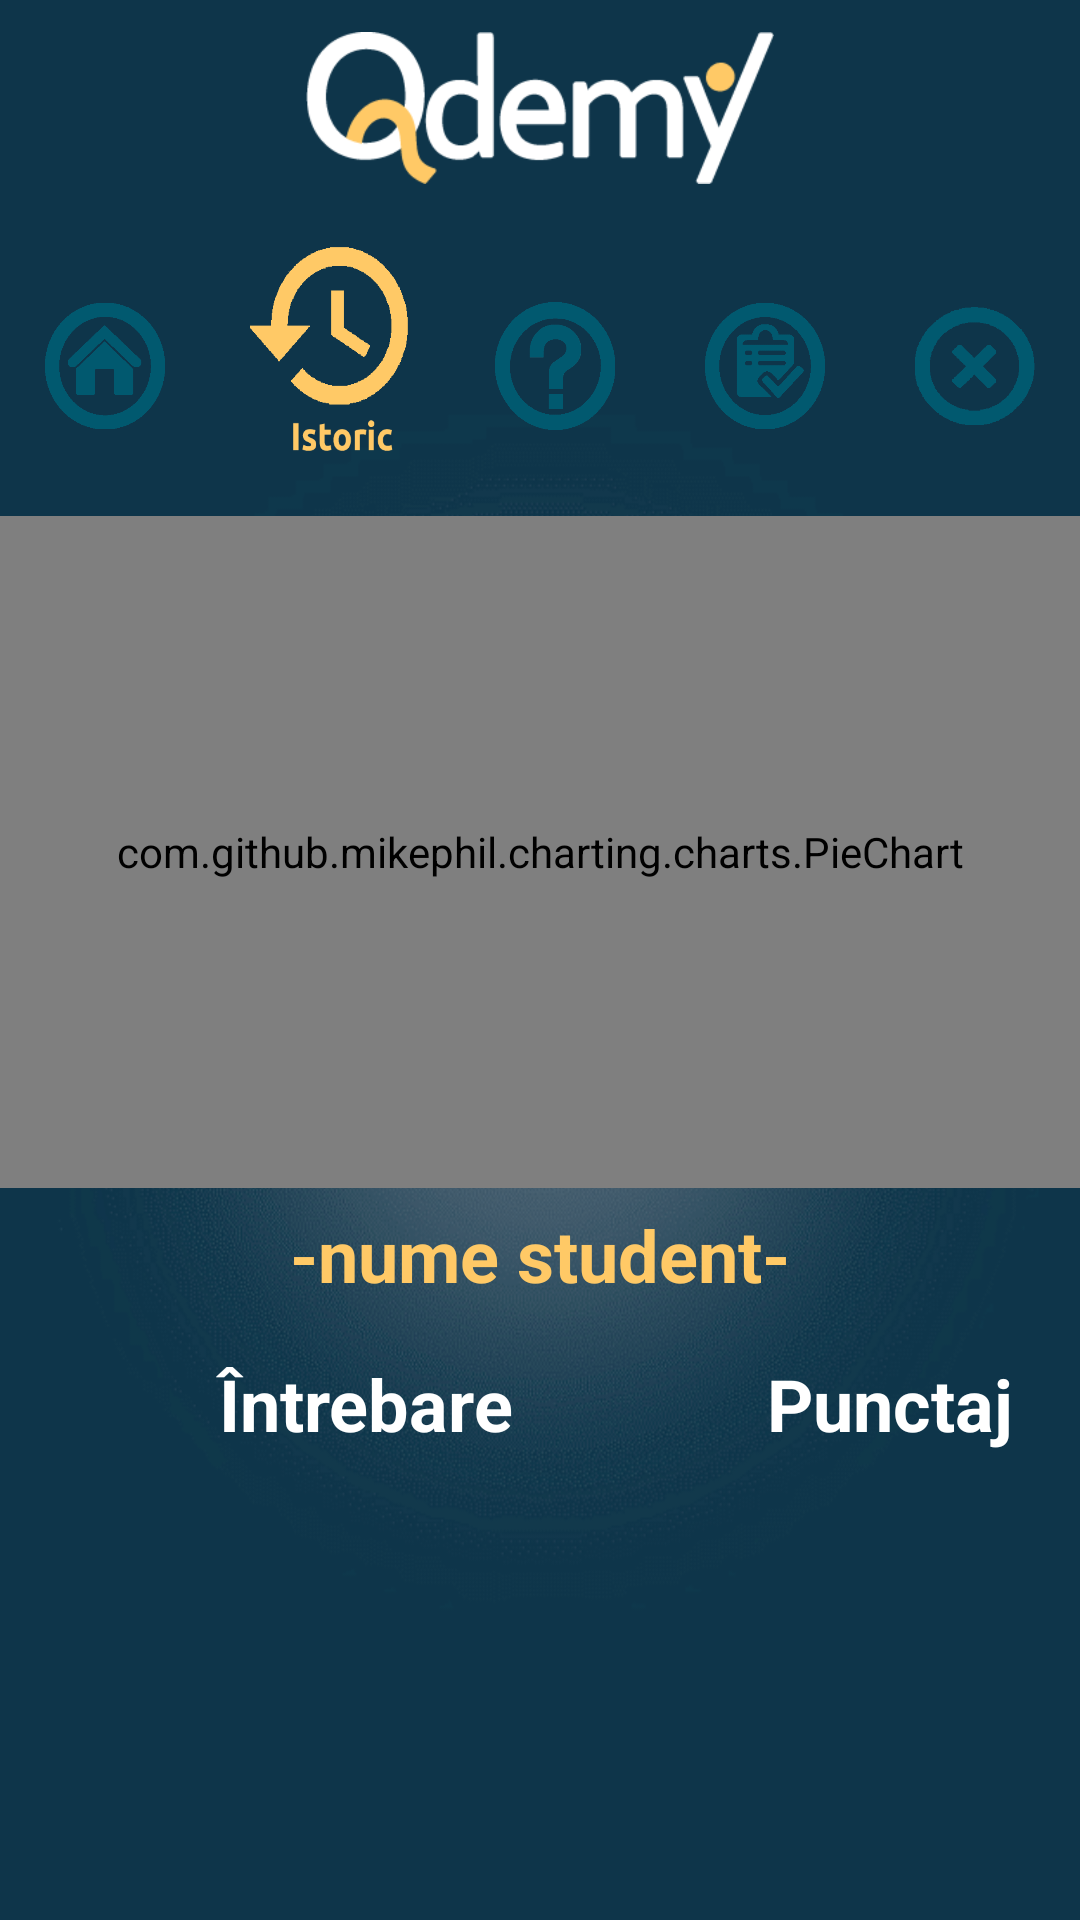

Icon click points for this 1080px x 1920px phone screenshot, format (x,y):
acasax: (105,366)
deconectare: (974,366)
intrebarix: (555,366)
testex: (765,366)
